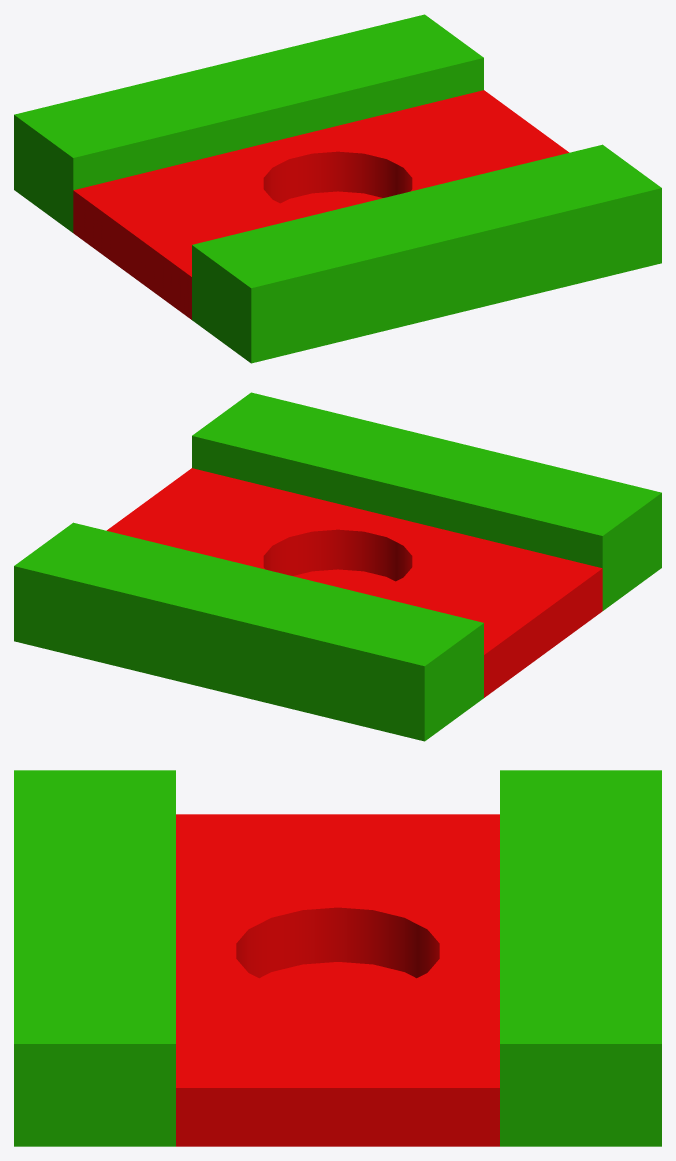
File: modular_pieces_hole_1.FBX
The picture shows the model from 3 angles, top to bottom: view 1: azimuth 30°, elevation 25°; view 2: azimuth 150°, elevation 25°; view 3: azimuth 270°, elevation 25°; orthographic projection. The views are drawn at different scales.
Visible parts, largest first — view 1: modular_piece_straight_002; view 2: modular_piece_straight_002; view 3: modular_piece_straight_002.
Part boxes in pixels (left/top/right/bottom): modular_piece_straight_002: left=14, top=14, right=661, bottom=363; modular_piece_straight_002: left=14, top=392, right=661, bottom=741; modular_piece_straight_002: left=14, top=770, right=661, bottom=1146.
Bounding box in the file's own units: 100 × 17.5 × 100.
